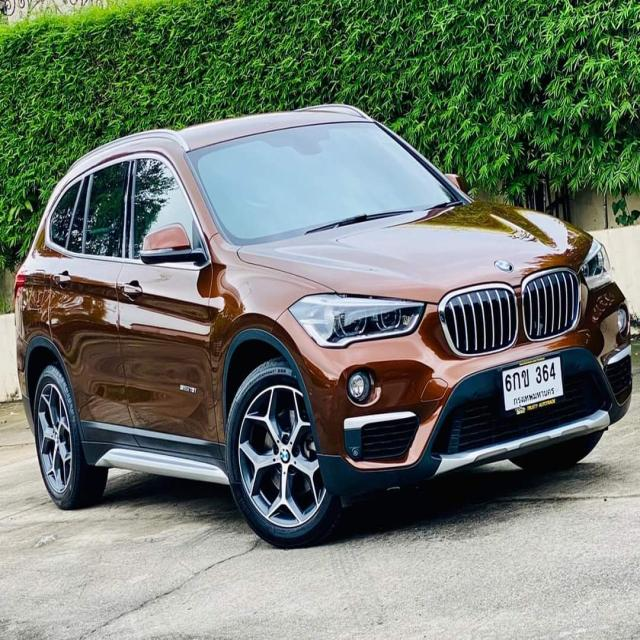license_plate: (493, 351, 569, 422)
